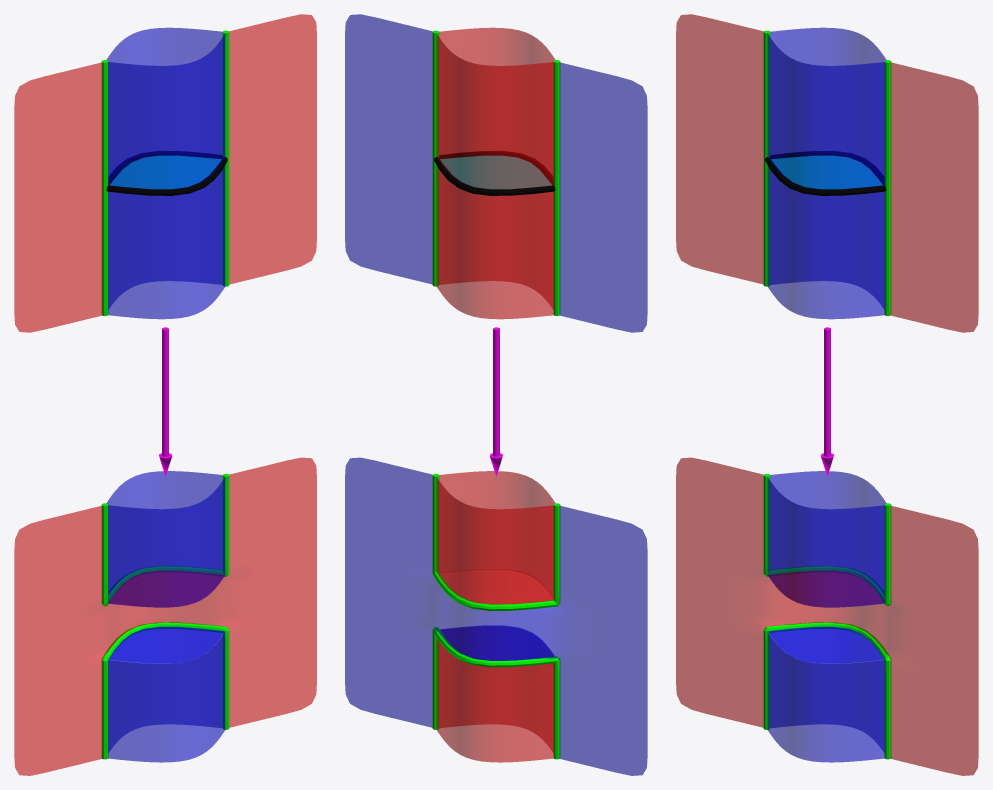
The model's file is 2compression.glb.
3 views of the same model, side by side, from view 1: azimuth 30°, elevation 25°; view 2: azimuth 150°, elevation 25°; view 3: azimuth 330°, elevation 25° (orthographic).
Parts seen in each view (by area): view 1: Plane.001, Plane, singular_locus.001, singular_locus, comp_disk, intersection, NurbsPath; view 2: Plane, Plane.001, singular_locus.001, singular_locus, comp_disk, intersection, NurbsPath; view 3: Plane.001, Plane, singular_locus.001, singular_locus, comp_disk, intersection, NurbsPath.
Part boxes in pixels (<box>): Plane.001: <box>14,457,316,775</box>; Plane: <box>14,14,316,332</box>; singular_locus.001: <box>101,473,229,759</box>; singular_locus: <box>101,30,229,316</box>; comp_disk: <box>110,156,221,188</box>; intersection: <box>106,151,227,195</box>; NurbsPath: <box>159,327,171,476</box>; Plane: <box>345,14,647,332</box>; Plane.001: <box>345,457,647,775</box>; singular_locus.001: <box>432,473,560,759</box>; singular_locus: <box>432,30,560,316</box>; comp_disk: <box>440,156,551,188</box>; intersection: <box>434,151,555,195</box>; NurbsPath: <box>490,327,502,476</box>; Plane.001: <box>676,457,978,775</box>; Plane: <box>676,14,978,332</box>; singular_locus.001: <box>763,473,891,759</box>; singular_locus: <box>763,30,891,316</box>; comp_disk: <box>771,156,882,188</box>; intersection: <box>765,151,886,195</box>; NurbsPath: <box>821,327,833,476</box>.
Size of the model in its own units: 5 by 11 by 1.43.
